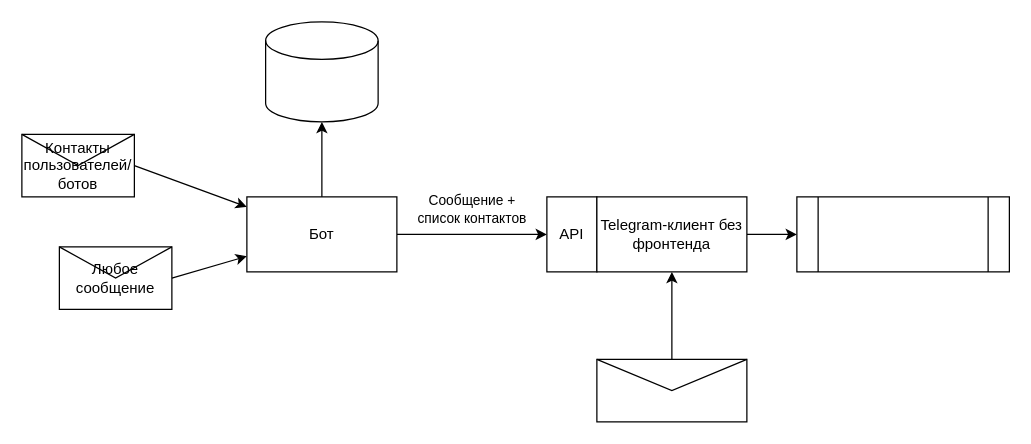
The diagram is 1031 pixels wide and 444 high, and some of its shapes have lost their labels. The shapes that lost their labels are listed below. From the top down, each one's box as (x1, y1, x2, y2) in pixels, then its label:
(264, 21, 378, 122): Хранилище контактов для рассылки
(796, 196, 1009, 272): Пересылка сообщения всем контактам от имени тогоже пользователя
(596, 358, 747, 422): Авторизация тогоже пользователя
